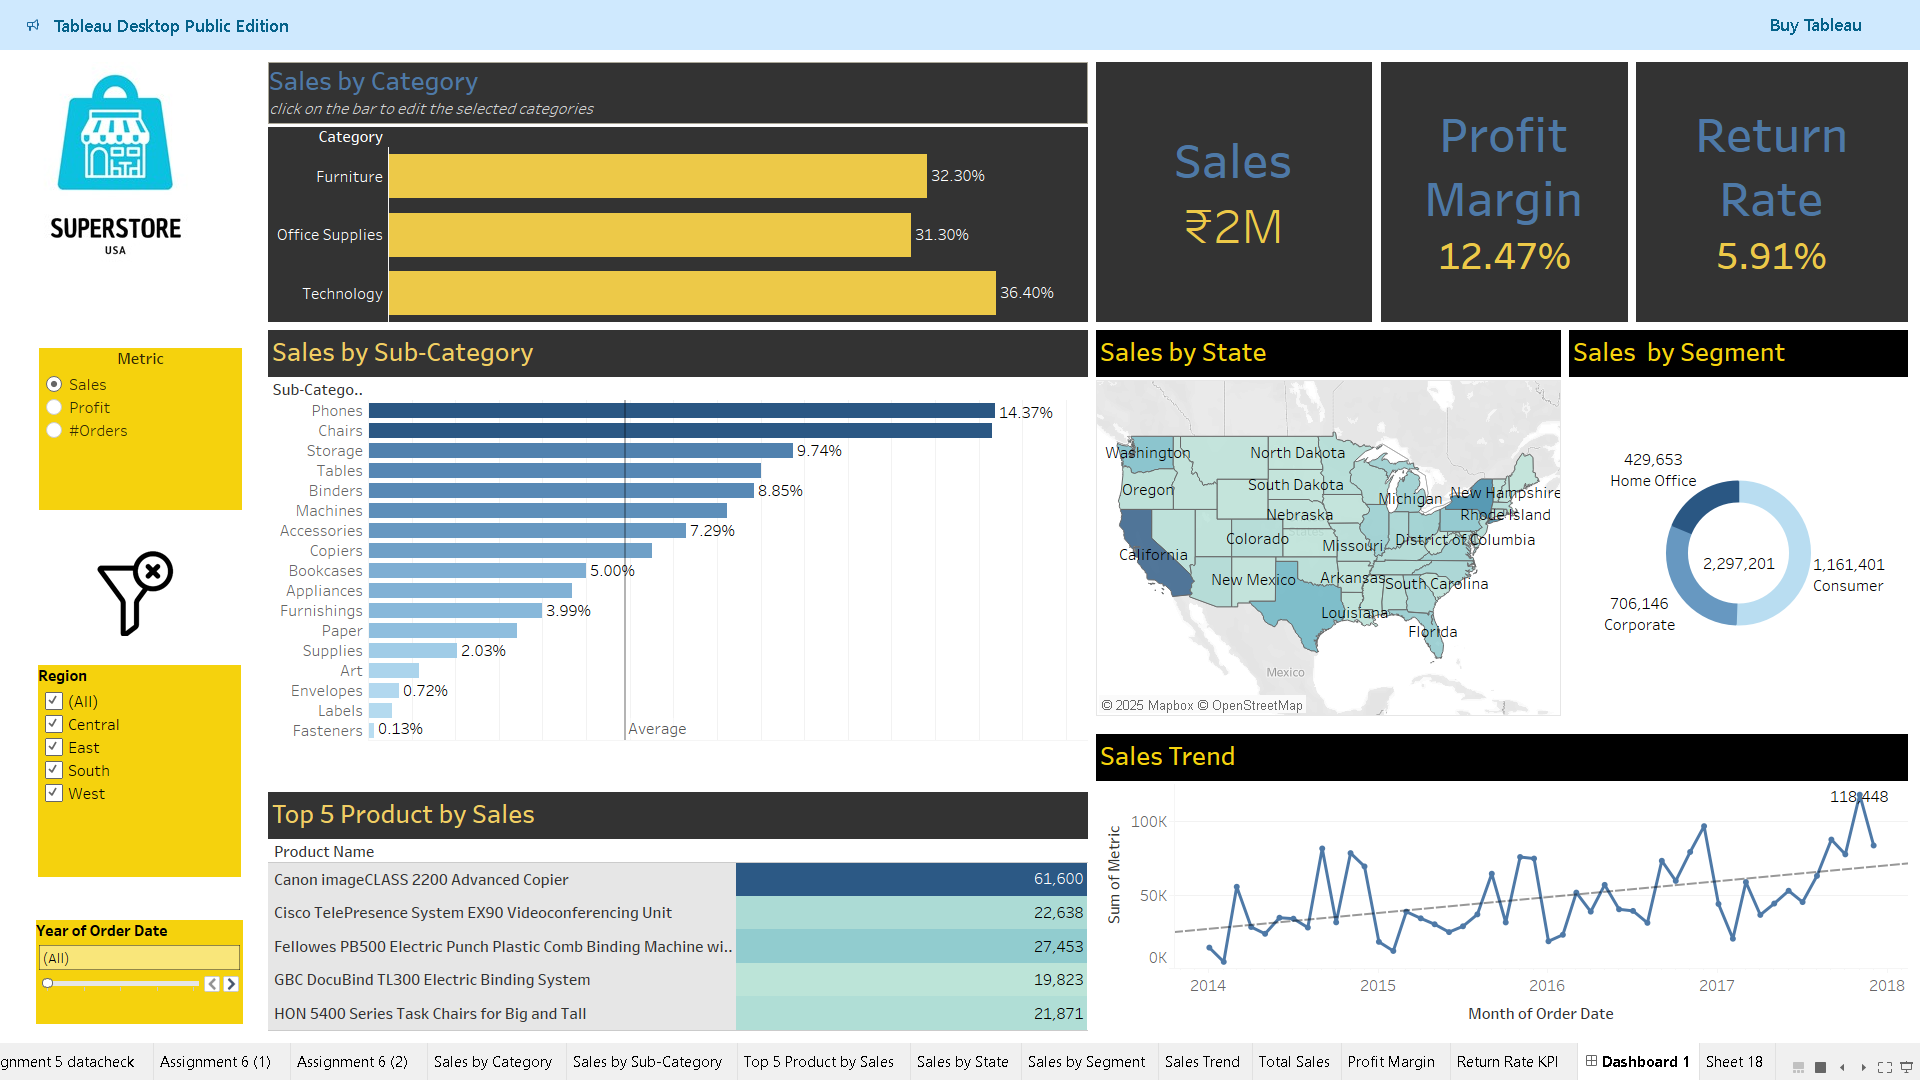

Layout of this report page (visuals, bound fields, positions):
{"tool":"tableau","page":{"name":"Dashboard ","canvas":[1000,1000],"units":"permille","ordinal":0},"visuals":[{"type":"image","param":"Image/TB dash.jpg","box":[4.8,10,133.3,268.4]},{"type":"worksheet","title":"Sales by Category","mark":"Automatic","rows":["Category"],"cols":["Calculation_1208372137328275469"],"box":[138.2,10,430.6,268.4]},{"type":"worksheet","title":"Total Sales","mark":"Automatic","box":[568.8,10,147.9,268.4]},{"type":"worksheet","title":"Profit Margin","mark":"Automatic","box":[716.7,10,132.9,268.4]},{"type":"worksheet","title":"Return Rate KPI","mark":"Automatic","box":[849.6,10,145.6,268.4]},{"type":"worksheet","title":"Sales by Sub-Category","mark":"Automatic","rows":["Sub-Category"],"cols":["Calculation_1208372137328275469"],"box":[138.2,278.4,430.6,464]},{"type":"worksheet","title":"Sales by State","mark":"Automatic","box":[568.8,278.4,245.9,405.7]},{"type":"worksheet","title":"Sales by Segment","mark":"Pie","rows":["Calculation_1208372137316810761","Calculation_1208372137316835339"],"box":[814.7,278.4,180.5,405.7]},{"type":"parameter","param":"[Parameters].[Parameter 3]","box":[20.2,299.6,105.8,163.6]},{"type":"dashboard-object","box":[41,504.4,58.7,86.1]},{"type":"filter","title":"Sales by Category","param":"[federated.012kcc60zokqy518ceesr0d6dy41].[none:Region:nk]","box":[19.6,619.2,105.8,213.5]},{"type":"worksheet","title":"Sales Trend","mark":"Automatic","rows":["Calculation_1208372137328275469"],"cols":["Order Date"],"box":[568.8,684.1,426.4,305.9]},{"type":"worksheet","title":"Top 5 Product by Sales","mark":"Square","rows":["Product Name"],"box":[138.2,742.4,430.6,247.6]},{"type":"filter","title":"Sales by Category","param":"[federated.012kcc60zokqy518ceesr0d6dy41].[yr:Order Date:ok]","box":[19,876.4,107.7,104.9]}]}

Visuals, with their boxes on the dashboard's canvas, which has no fixed pixel size, in thousandths of its width and height (x1, y1, x2, y2). These are canvas units, not pixel positions in the 1920x1080 screenshot, which may show the page scaled, cropped or inside an application window:
image: box=[5, 10, 138, 278]
"Sales by Category" worksheet: box=[138, 10, 569, 278]
"Total Sales" worksheet: box=[569, 10, 717, 278]
"Profit Margin" worksheet: box=[717, 10, 850, 278]
"Return Rate KPI" worksheet: box=[850, 10, 995, 278]
"Sales by Sub-Category" worksheet: box=[138, 278, 569, 742]
"Sales by State" worksheet: box=[569, 278, 815, 684]
"Sales by Segment" worksheet (Pie marks): box=[815, 278, 995, 684]
parameter: box=[20, 300, 126, 463]
dashboard-object: box=[41, 504, 100, 590]
"Sales by Category" filter: box=[20, 619, 125, 833]
"Sales Trend" worksheet: box=[569, 684, 995, 990]
"Top 5 Product by Sales" worksheet (Square marks): box=[138, 742, 569, 990]
"Sales by Category" filter: box=[19, 876, 127, 981]
